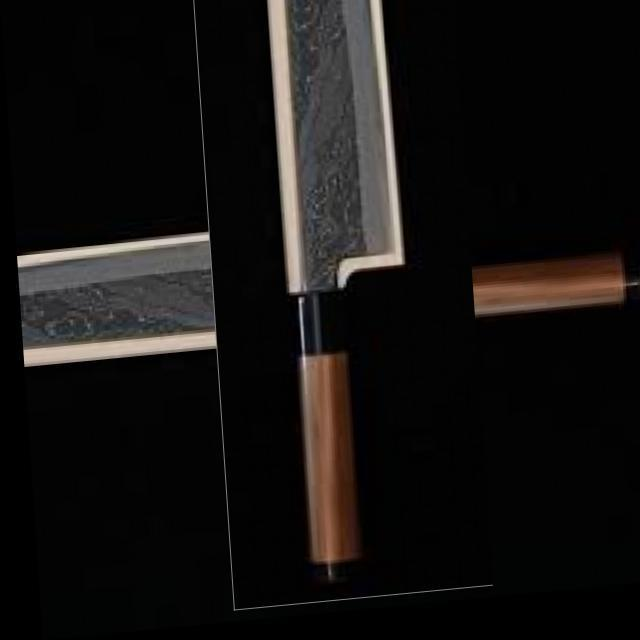knife: (102, 45, 574, 527)
